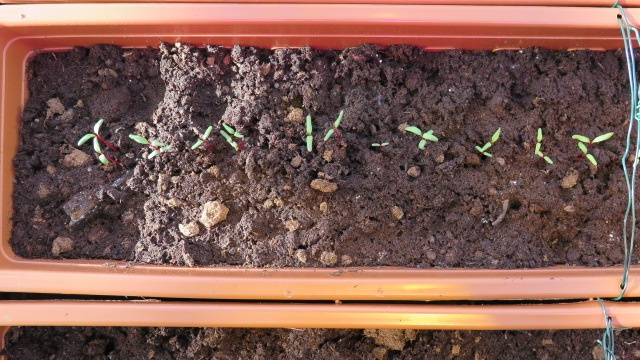crop: (77, 117, 120, 154), (320, 108, 346, 143), (186, 123, 216, 151), (519, 148, 565, 166), (415, 124, 439, 158), (573, 130, 618, 148), (574, 141, 602, 169), (126, 132, 172, 149), (85, 154, 129, 171), (143, 144, 174, 168), (301, 112, 318, 154), (481, 127, 512, 149), (215, 129, 240, 155), (221, 121, 250, 141), (407, 124, 441, 141), (536, 127, 552, 152), (472, 146, 491, 162), (365, 141, 391, 147)
